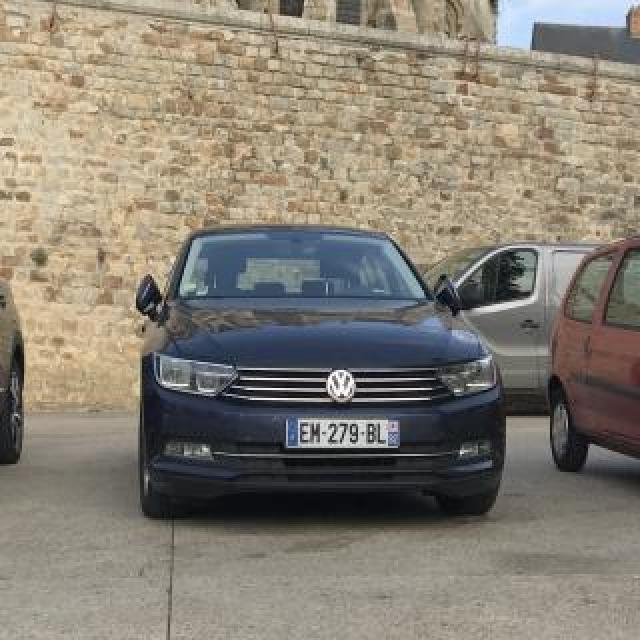Autre: (285, 418, 402, 448)
